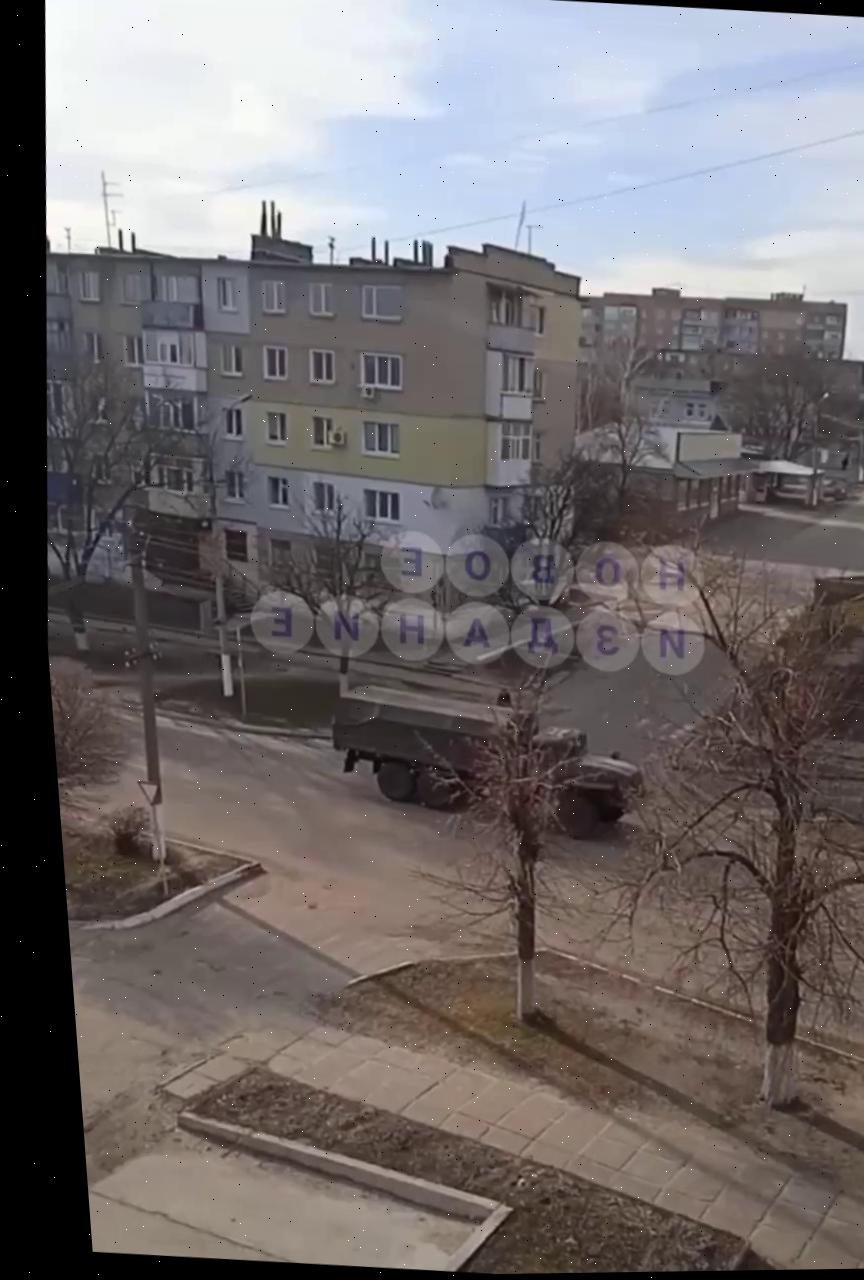truck: (316, 671, 652, 845)
